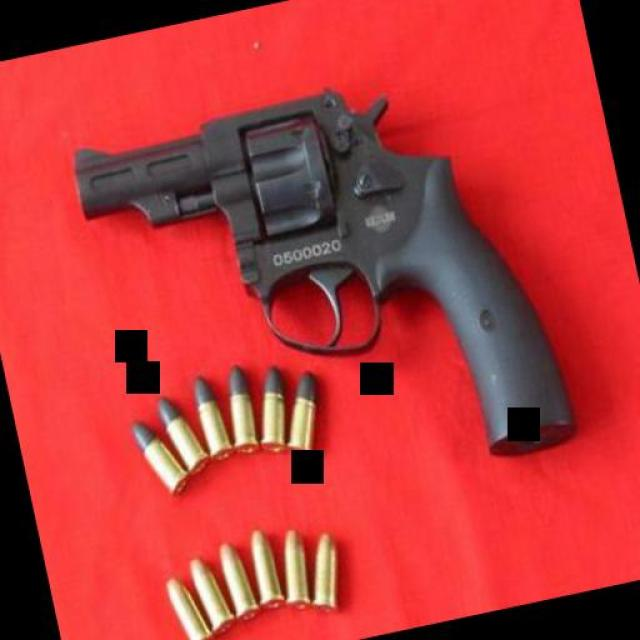gun: (64, 51, 574, 534)
